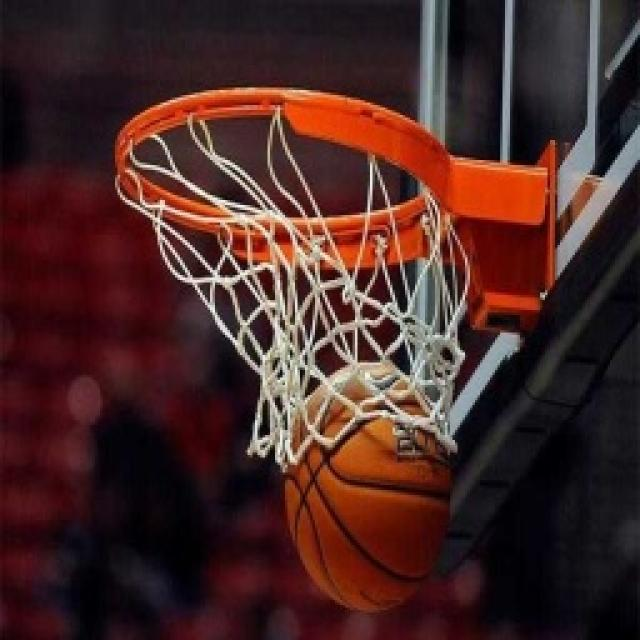rim: (281, 362, 464, 612)
